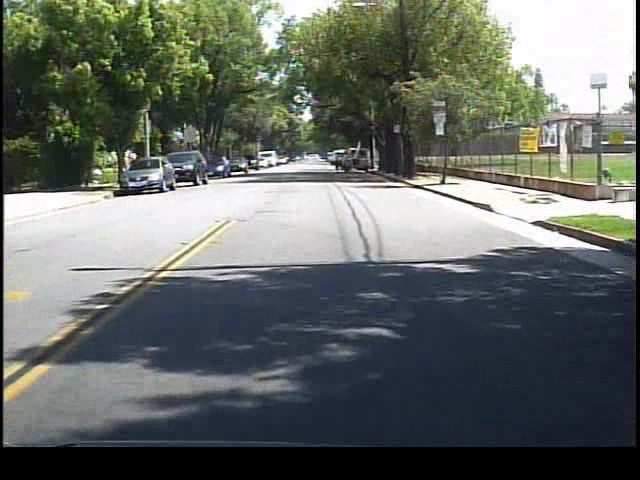person: (329, 147, 344, 172)
